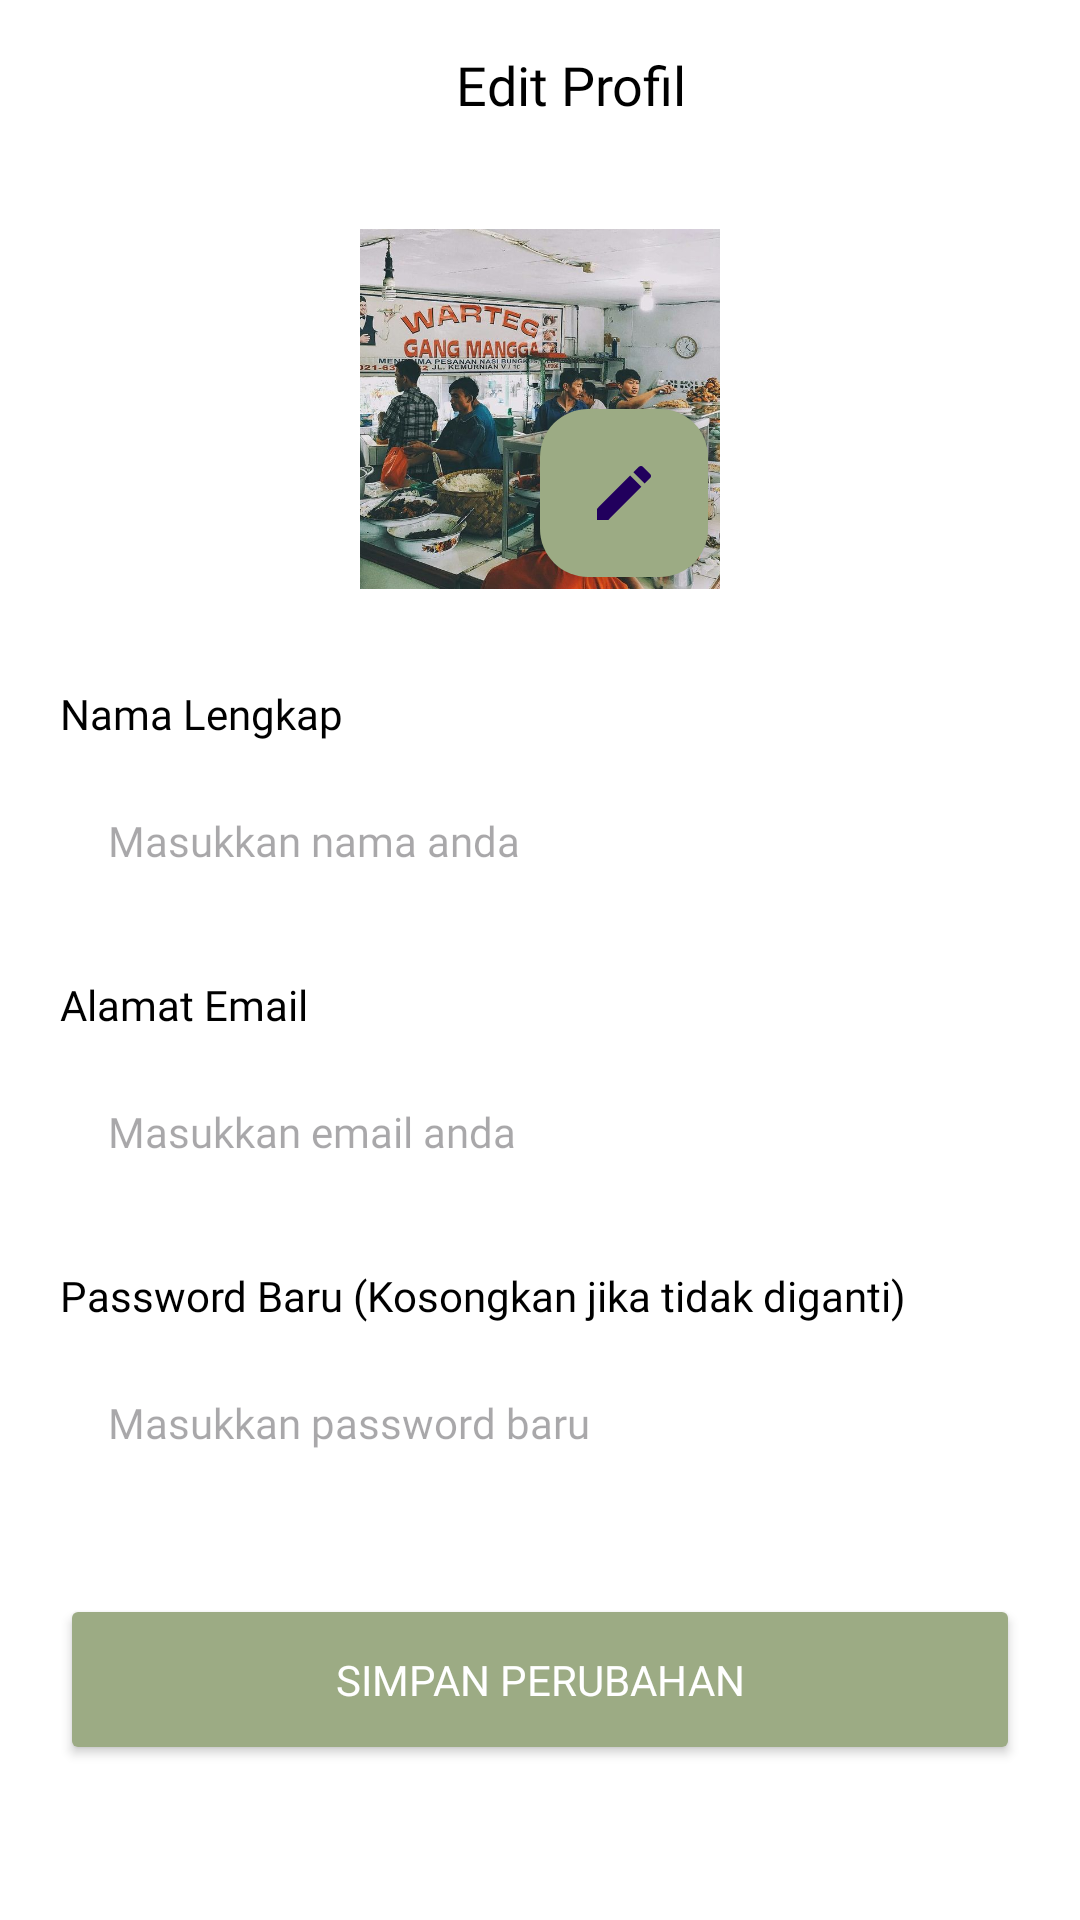

Icons on this 1080px×1920px Android screen, each with the point to tap as (x,y):
Ubah Foto: (624,493)
